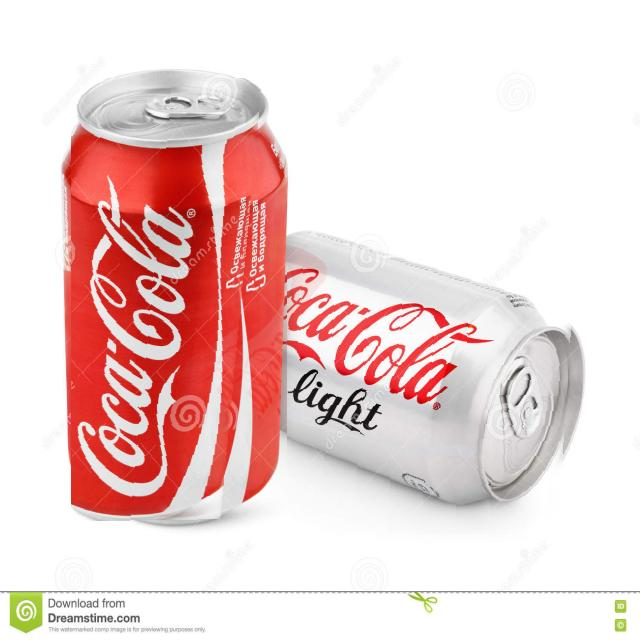Cans: (71, 79, 263, 522), (287, 245, 576, 536)
